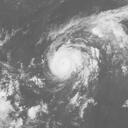cyclone: (47, 45, 91, 80)
